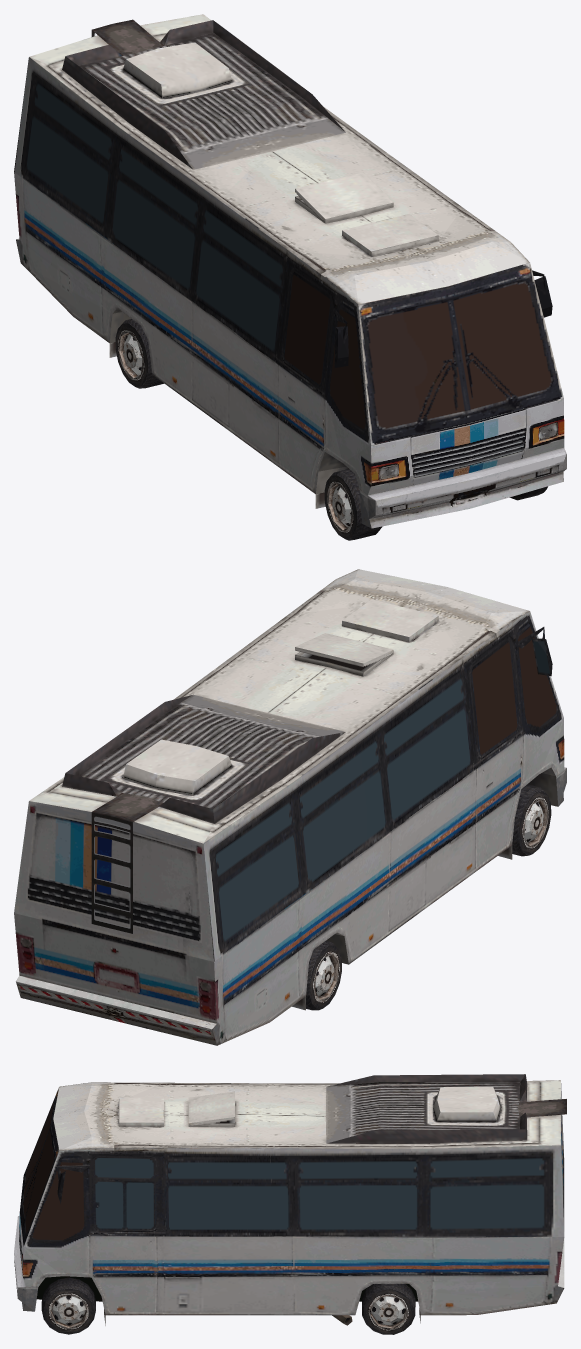
Rendered from ps1bus.glb.
The picture shows the model from 3 angles, top to bottom: view 1: azimuth 30°, elevation 25°; view 2: azimuth 150°, elevation 25°; view 3: azimuth 270°, elevation 25°; orthographic projection. The views are drawn at different scales.
Parts seen in each view (by area): view 1: Bus, bus_wheel.fr, bus_wheel_rr; view 2: Bus, bus_wheel.fr, bus_wheel_rr; view 3: Bus, bus_wheel_fl, bus_wheel_rl.
Part boxes in pixels (bbox=[...]): Bus: bbox=[14, 14, 566, 528]; bus_wheel.fr: bbox=[324, 469, 382, 540]; bus_wheel_rr: bbox=[115, 319, 163, 388]; Bus: bbox=[14, 569, 566, 1045]; bus_wheel.fr: bbox=[512, 784, 551, 856]; bus_wheel_rr: bbox=[306, 940, 341, 1010]; Bus: bbox=[14, 1074, 566, 1325]; bus_wheel_fl: bbox=[41, 1277, 95, 1334]; bus_wheel_rl: bbox=[362, 1284, 415, 1334].
Bounding box in the file's own units: 8.13 × 9.39 × 23.45.
Materials: 2 (2 with a texture image).
